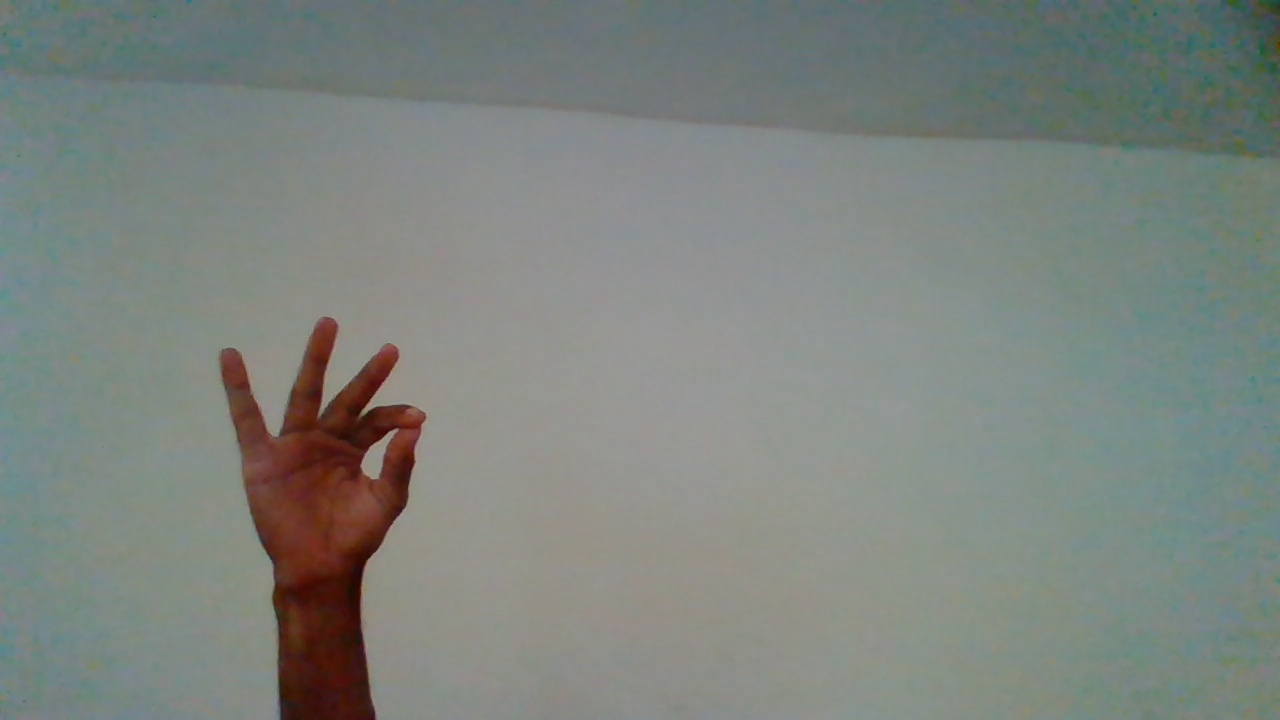le: (205, 315, 425, 680)
